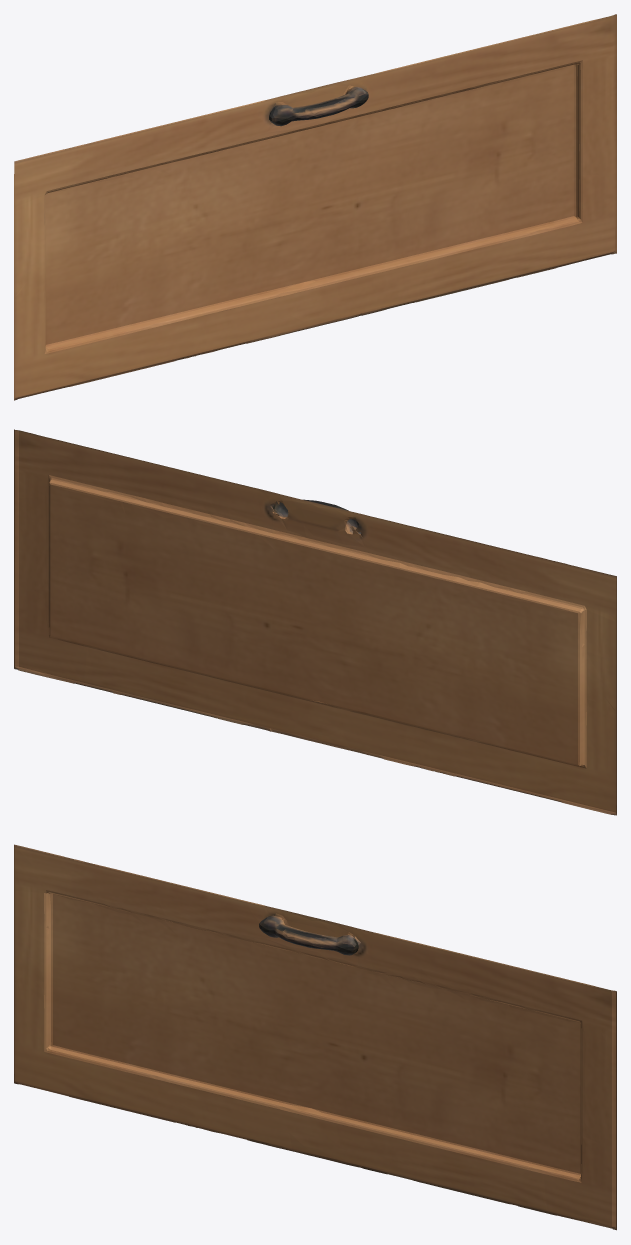
The model's file is door_upper.glb.
3 renders of one model, top to bottom at view 1: azimuth 30°, elevation 25°; view 2: azimuth 150°, elevation 25°; view 3: azimuth 330°, elevation 25°, orthographic.
Parts seen in each view (by area): view 1: source_surface_0; view 2: source_surface_0; view 3: source_surface_0.
Boxes of the visible parts, x1=… form: source_surface_0: x1=14, y1=14, x2=616, y2=400; source_surface_0: x1=14, y1=429, x2=616, y2=815; source_surface_0: x1=14, y1=844, x2=616, y2=1230.
Bounding box in the file's own units: 0.8101 × 0.3073 × 0.0407.
1 material, 1 textured.
